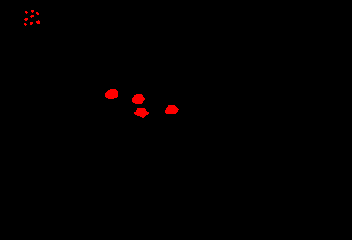Target: (134, 108, 149, 118), (105, 89, 118, 99), (132, 94, 145, 104), (165, 105, 179, 114), (36, 20, 40, 24), (30, 15, 34, 18), (24, 18, 28, 21), (31, 10, 34, 13), (25, 11, 28, 14), (36, 12, 39, 15), (30, 22, 33, 25), (24, 23, 27, 26)
